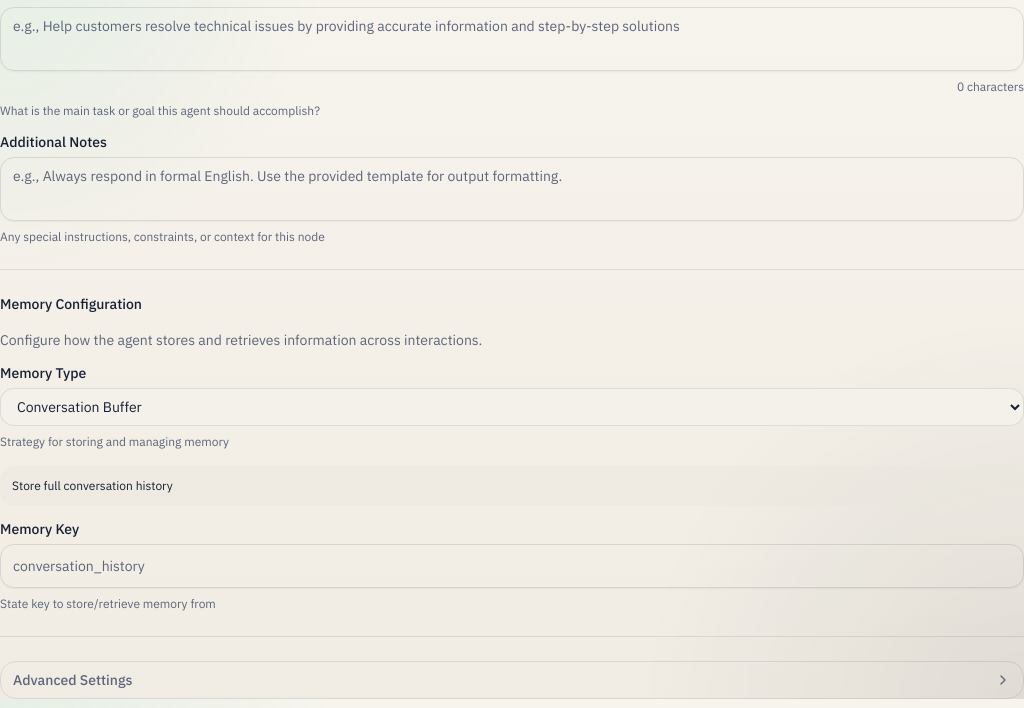
Test: MemoryNodeForm › Switching Memory Types › should show vector fields when switching to vector memory
Expected: the field labelled "retrieval query" is not shown
Step 1. Select "Vector Store" in the dropdown labelled "Memory Type" → point(512, 407), box [0,388,1023,426]
(page scrolled)
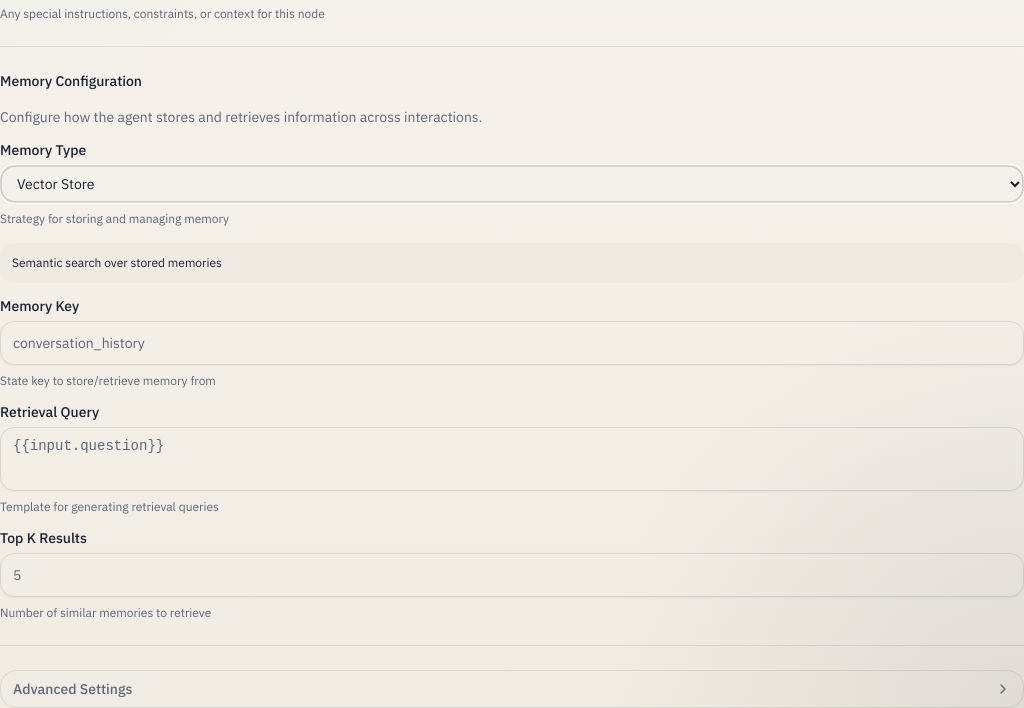
Expected: the text box labelled "Retrieval Query" is shown, [0,427,1023,491]
Expected: the number field labelled "Top K Results" is shown, [0,553,1023,597]
